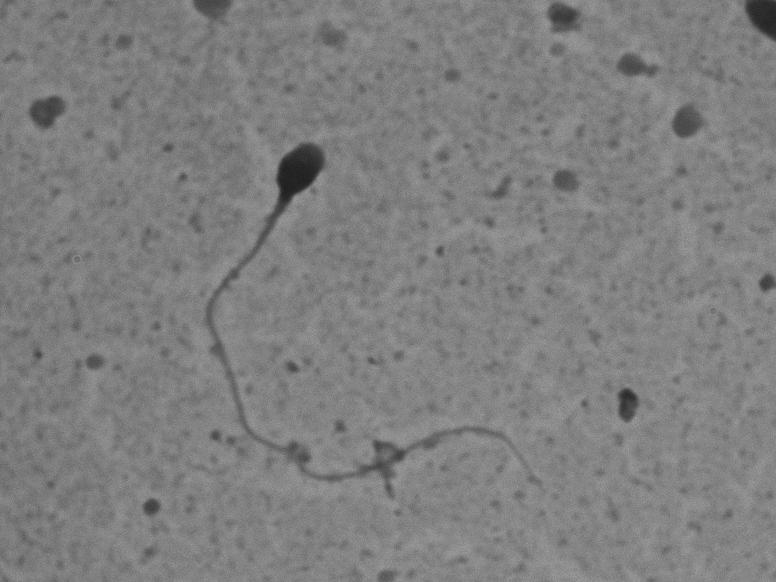Abnormal: (178, 101, 562, 527)
